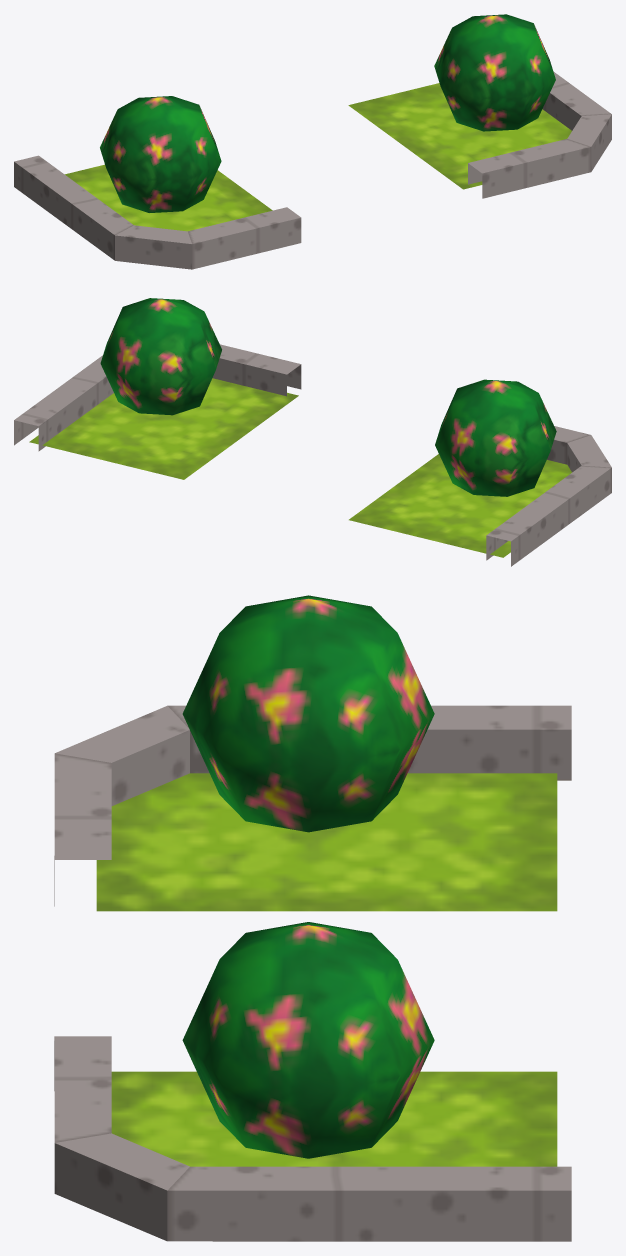
Rendered from building_inn_grass_lv5.FBX.
3 views of the same model, one above another, from view 1: azimuth 30°, elevation 25°; view 2: azimuth 150°, elevation 25°; view 3: azimuth 270°, elevation 25° (orthographic). The views are drawn at different scales.
Parts seen in each view (by area): view 1: building_inn_grass_lv5; view 2: building_inn_grass_lv5; view 3: building_inn_grass_lv5.
Part boxes in pixels (x1=…): building_inn_grass_lv5: x1=14, y1=14, x2=611, y2=269; building_inn_grass_lv5: x1=14, y1=298, x2=611, y2=566; building_inn_grass_lv5: x1=54, y1=595, x2=571, y2=1241.
Size of the model in its own units: 296 by 67.18 by 133.
